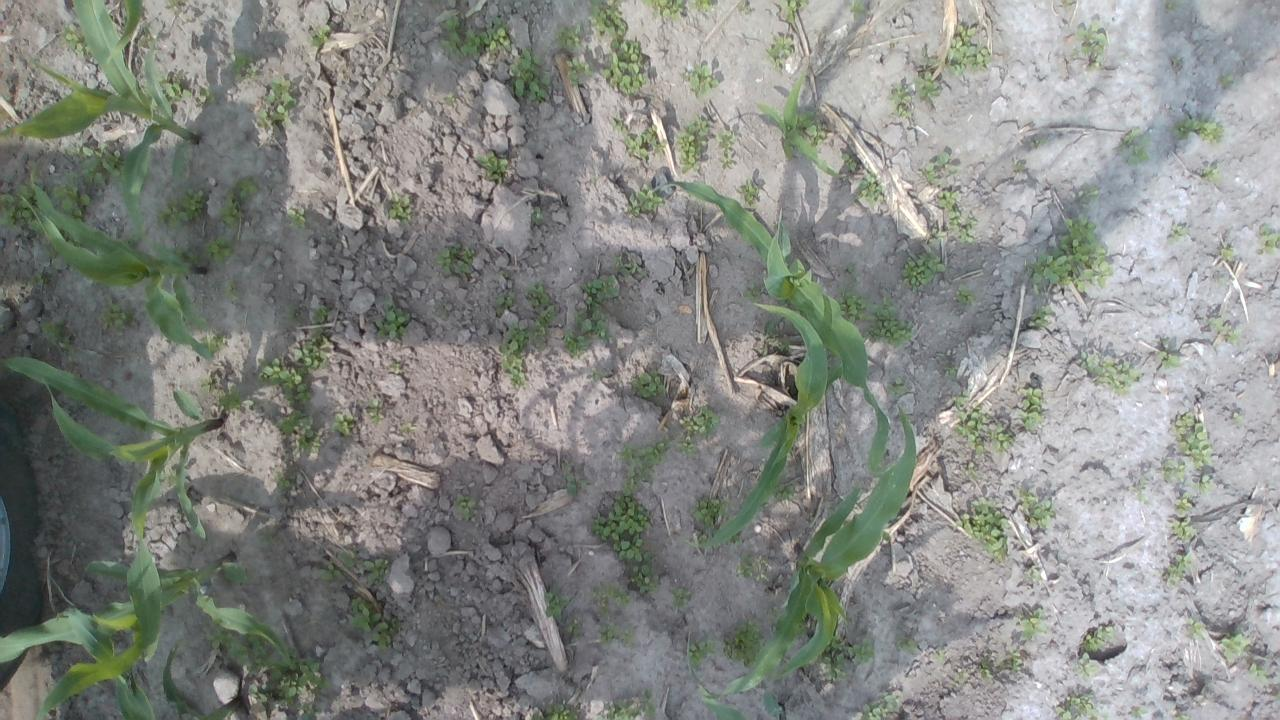Maize: (632, 176, 902, 478), (0, 354, 225, 662), (706, 400, 916, 704), (0, 547, 290, 720), (0, 0, 198, 233), (16, 168, 216, 364), (687, 298, 829, 554), (66, 607, 241, 720), (756, 76, 840, 178), (688, 668, 788, 720)
Weeds: (1030, 216, 1112, 288), (562, 274, 620, 358), (250, 648, 330, 704), (590, 495, 650, 564), (206, 618, 274, 674), (954, 500, 1010, 564), (615, 435, 673, 496), (599, 38, 649, 102), (348, 598, 402, 656), (943, 20, 991, 78), (503, 47, 553, 102), (256, 356, 310, 406), (860, 294, 911, 346), (931, 189, 976, 245), (1080, 351, 1142, 391), (1170, 414, 1214, 468), (722, 614, 766, 668), (152, 187, 206, 231), (951, 393, 988, 456), (276, 409, 324, 455), (674, 112, 710, 173), (678, 404, 720, 456), (214, 177, 258, 226), (439, 11, 482, 61), (0, 184, 43, 233), (256, 78, 296, 129), (51, 175, 93, 221), (1070, 19, 1106, 72), (500, 325, 530, 388), (80, 142, 121, 188), (899, 252, 946, 288), (294, 328, 334, 370), (528, 286, 556, 346), (605, 688, 656, 720), (1018, 488, 1056, 530), (375, 298, 413, 340), (586, 0, 628, 38), (1173, 116, 1224, 146), (40, 320, 76, 362), (97, 294, 134, 334), (432, 241, 474, 274), (1120, 128, 1154, 168), (1018, 386, 1046, 434), (592, 584, 632, 617), (819, 635, 848, 680), (682, 60, 718, 96), (767, 31, 796, 73), (1054, 691, 1096, 720), (213, 388, 256, 416), (691, 496, 728, 528), (625, 186, 664, 216), (479, 15, 512, 50), (60, 22, 92, 57), (835, 286, 866, 322), (202, 234, 236, 266), (796, 110, 826, 146), (631, 368, 667, 398), (860, 692, 898, 720), (925, 151, 958, 183), (735, 554, 770, 584), (714, 128, 739, 170), (156, 74, 192, 103), (543, 585, 572, 620), (564, 55, 594, 88), (227, 48, 256, 82), (856, 172, 886, 204), (1217, 629, 1246, 662), (1206, 316, 1240, 344), (642, 0, 685, 22), (598, 623, 634, 649), (989, 422, 1014, 457), (480, 151, 508, 182), (1165, 554, 1193, 584), (1081, 625, 1111, 653), (688, 640, 718, 668), (612, 255, 647, 279), (1020, 608, 1046, 640), (564, 464, 590, 496), (1255, 222, 1280, 255), (736, 177, 760, 211), (454, 492, 480, 523), (386, 192, 412, 223), (169, 142, 191, 178), (628, 564, 656, 592), (363, 557, 390, 586), (555, 19, 582, 48), (1156, 338, 1180, 368), (890, 82, 911, 116), (542, 701, 579, 720), (329, 412, 356, 438), (913, 71, 941, 96), (780, 0, 809, 24), (848, 640, 875, 664), (1030, 304, 1056, 328), (143, 237, 172, 258), (136, 24, 160, 49), (306, 22, 330, 46), (1170, 517, 1196, 539), (888, 374, 908, 400), (317, 560, 342, 580), (1162, 460, 1184, 482), (822, 346, 842, 370), (32, 270, 56, 290), (310, 305, 334, 325), (1186, 617, 1206, 640), (285, 206, 305, 229), (1074, 652, 1092, 677), (774, 479, 795, 500), (671, 587, 692, 608), (607, 114, 629, 134), (1166, 226, 1188, 246), (1195, 472, 1215, 494), (768, 606, 783, 635), (204, 330, 228, 348), (1006, 647, 1023, 672), (158, 466, 178, 487), (1248, 664, 1268, 684), (894, 637, 919, 653), (338, 548, 358, 568), (176, 246, 198, 264), (493, 294, 514, 312), (742, 282, 759, 304), (1072, 187, 1098, 201), (368, 398, 382, 424), (275, 475, 295, 493), (528, 206, 546, 226), (284, 302, 300, 324), (196, 88, 216, 105), (850, 0, 866, 21), (979, 656, 993, 680), (1176, 496, 1194, 514), (1024, 564, 1042, 582), (958, 286, 976, 304), (1200, 168, 1220, 184), (124, 228, 144, 244), (1136, 480, 1149, 503), (690, 0, 711, 13), (1162, 0, 1178, 17), (297, 706, 316, 720), (56, 74, 74, 88), (842, 153, 856, 171), (724, 532, 742, 546), (760, 318, 774, 336), (223, 284, 238, 300), (1221, 71, 1233, 90), (737, 0, 752, 15), (252, 536, 274, 546), (796, 622, 808, 640), (966, 461, 977, 480), (1218, 248, 1234, 261), (776, 341, 792, 354), (199, 376, 212, 392), (399, 422, 416, 434), (781, 142, 795, 156), (1132, 706, 1148, 718), (934, 648, 946, 664), (957, 671, 968, 687), (387, 362, 401, 374), (1010, 160, 1024, 172), (589, 367, 601, 380), (1232, 412, 1244, 424), (566, 624, 580, 634), (845, 262, 856, 274), (442, 94, 454, 105), (174, 638, 187, 648), (946, 367, 957, 378), (1172, 56, 1184, 66), (1176, 713, 1191, 720), (164, 0, 179, 7), (1030, 139, 1044, 146), (67, 146, 79, 154), (12, 105, 21, 115), (4, 123, 14, 131), (1066, 0, 1073, 7)
